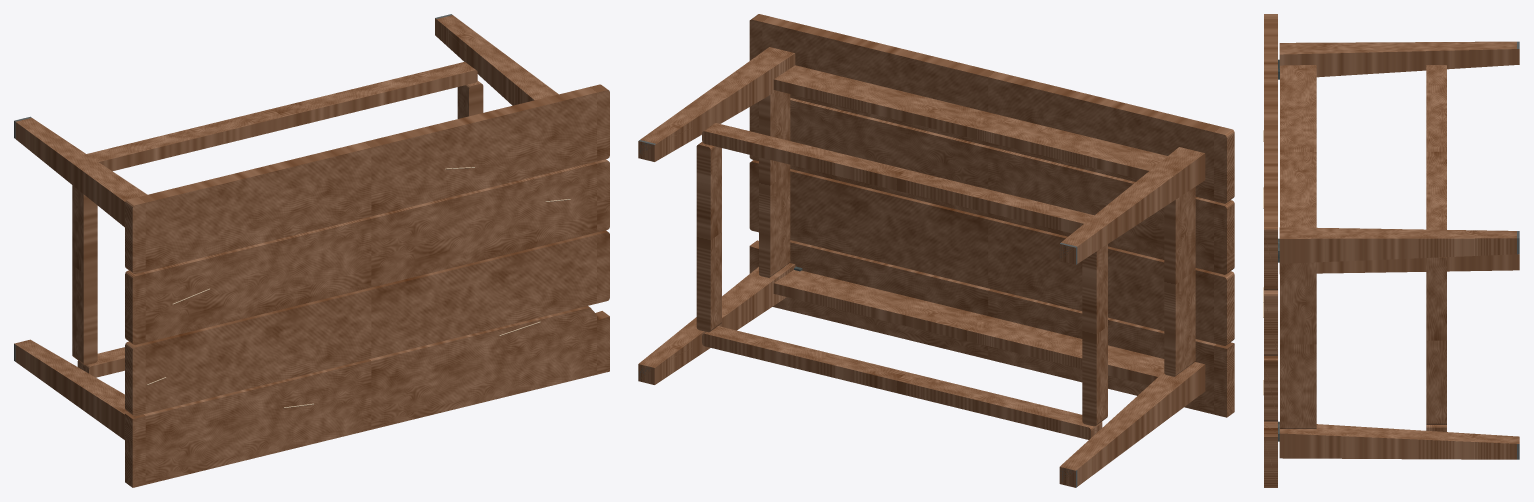
File: PZ_Dining_Kitchen_Table.glb
3 views of the same model, side by side, from view 1: azimuth 30°, elevation 25°; view 2: azimuth 150°, elevation 25°; view 3: azimuth 270°, elevation 25° (orthographic). The views are drawn at different scales.
Parts seen in each view (by area): view 1: GEO_Table__TOP_Plank_01_Outer_North, GEO_Table__TOP_Plank_03_Lower, GEO_Table__TOP_Plank_02_Upper, GEO_Table__TOP_Plank_04_ChippedCorner, GEO_Table__STRETCHER_Long_Rear, GEO_Table__LEG_OakTaper_L_B, GEO_Table__STRETCHER_Short_Left, GEO_Table__LEG_OakTaper_L_F, GEO_Table__LEG_OakTaper_R_B, GEO_Table__STRETCHER_Short_Right, GEO_Table__STRETCHER_Long_Front; view 2: GEO_Table__TOP_Plank_03_Lower, GEO_Table__TOP_Plank_01_Outer_North, GEO_Table__TOP_Plank_02_Upper, GEO_Table__TOP_Plank_04_ChippedCorner, GEO_Table__APRON_LongRail_Rear, GEO_Table__APRON_LongRail_Front, GEO_Table__STRETCHER_Long_Front, GEO_Table__STRETCHER_Long_Rear, GEO_Table__LEG_OakTaper_L_B, GEO_Table__LEG_OakTaper_L_F, GEO_Table__LEG_OakTaper_R_B, GEO_Table__APRON_ShortRail_Left (+4 smaller); view 3: GEO_Table__LEG_OakTaper_R_B, GEO_Table__LEG_OakTaper_R_F, GEO_Table__LEG_OakTaper_L_B, GEO_Table__APRON_ShortRail_Right, GEO_Table__APRON_LongRail_Rear, GEO_Table__TOP_Plank_01_Outer_North, GEO_Table__STRETCHER_Short_Right, GEO_Table__STRETCHER_Long_Rear, GEO_Table__LEG_OakTaper_L_F, GEO_Table__TOP_Plank_04_ChippedCorner, GEO_Table__TOP_Plank_02_Upper, GEO_Table__TOP_Plank_03_Lower.
Boxes of the visible parts, left/top/right/bottom form: GEO_Table__TOP_Plank_01_Outer_North: left=125, top=84, right=609, bottom=273; GEO_Table__TOP_Plank_03_Lower: left=125, top=230, right=609, bottom=416; GEO_Table__TOP_Plank_02_Upper: left=125, top=159, right=609, bottom=344; GEO_Table__TOP_Plank_04_ChippedCorner: left=125, top=306, right=609, bottom=487; GEO_Table__STRETCHER_Long_Rear: left=87, top=62, right=477, bottom=171; GEO_Table__LEG_OakTaper_L_B: left=15, top=118, right=147, bottom=227; GEO_Table__STRETCHER_Short_Left: left=72, top=185, right=97, bottom=365; GEO_Table__LEG_OakTaper_L_F: left=14, top=339, right=128, bottom=439; GEO_Table__LEG_OakTaper_R_B: left=435, top=15, right=558, bottom=105; GEO_Table__STRETCHER_Short_Right: left=457, top=80, right=483, bottom=118; GEO_Table__STRETCHER_Long_Front: left=77, top=347, right=124, bottom=377; GEO_Table__TOP_Plank_03_Lower: left=749, top=160, right=1234, bottom=345; GEO_Table__TOP_Plank_01_Outer_North: left=749, top=14, right=1234, bottom=203; GEO_Table__TOP_Plank_02_Upper: left=749, top=98, right=1234, bottom=274; GEO_Table__TOP_Plank_04_ChippedCorner: left=749, top=240, right=1234, bottom=417; GEO_Table__APRON_LongRail_Rear: left=773, top=65, right=1167, bottom=178; GEO_Table__APRON_LongRail_Front: left=773, top=270, right=1164, bottom=385; GEO_Table__STRETCHER_Long_Front: left=702, top=326, right=1102, bottom=439; GEO_Table__STRETCHER_Long_Rear: left=702, top=123, right=1093, bottom=233; GEO_Table__LEG_OakTaper_L_B: left=1059, top=147, right=1205, bottom=264; GEO_Table__LEG_OakTaper_L_F: left=1059, top=362, right=1205, bottom=487; GEO_Table__LEG_OakTaper_R_B: left=638, top=47, right=795, bottom=161; GEO_Table__APRON_ShortRail_Left: left=1164, top=187, right=1195, bottom=376; GEO_Table__LEG_OakTaper_R_B: left=1279, top=227, right=1516, bottom=263; GEO_Table__LEG_OakTaper_R_F: left=1279, top=422, right=1519, bottom=459; GEO_Table__LEG_OakTaper_L_B: left=1279, top=41, right=1519, bottom=77; GEO_Table__APRON_ShortRail_Right: left=1280, top=262, right=1316, bottom=428; GEO_Table__APRON_LongRail_Rear: left=1280, top=65, right=1316, bottom=227; GEO_Table__TOP_Plank_01_Outer_North: left=1264, top=14, right=1277, bottom=290; GEO_Table__STRETCHER_Short_Right: left=1426, top=257, right=1446, bottom=424; GEO_Table__STRETCHER_Long_Rear: left=1426, top=65, right=1446, bottom=229; GEO_Table__LEG_OakTaper_L_F: left=1279, top=254, right=1519, bottom=273; GEO_Table__TOP_Plank_04_ChippedCorner: left=1264, top=421, right=1277, bottom=487; GEO_Table__TOP_Plank_02_Upper: left=1264, top=290, right=1277, bottom=355; GEO_Table__TOP_Plank_03_Lower: left=1264, top=356, right=1277, bottom=421.
Bounding box in the file's own units: 1.51 × 0.853 × 0.7622.
Materials: 6 (3 with a texture image).
